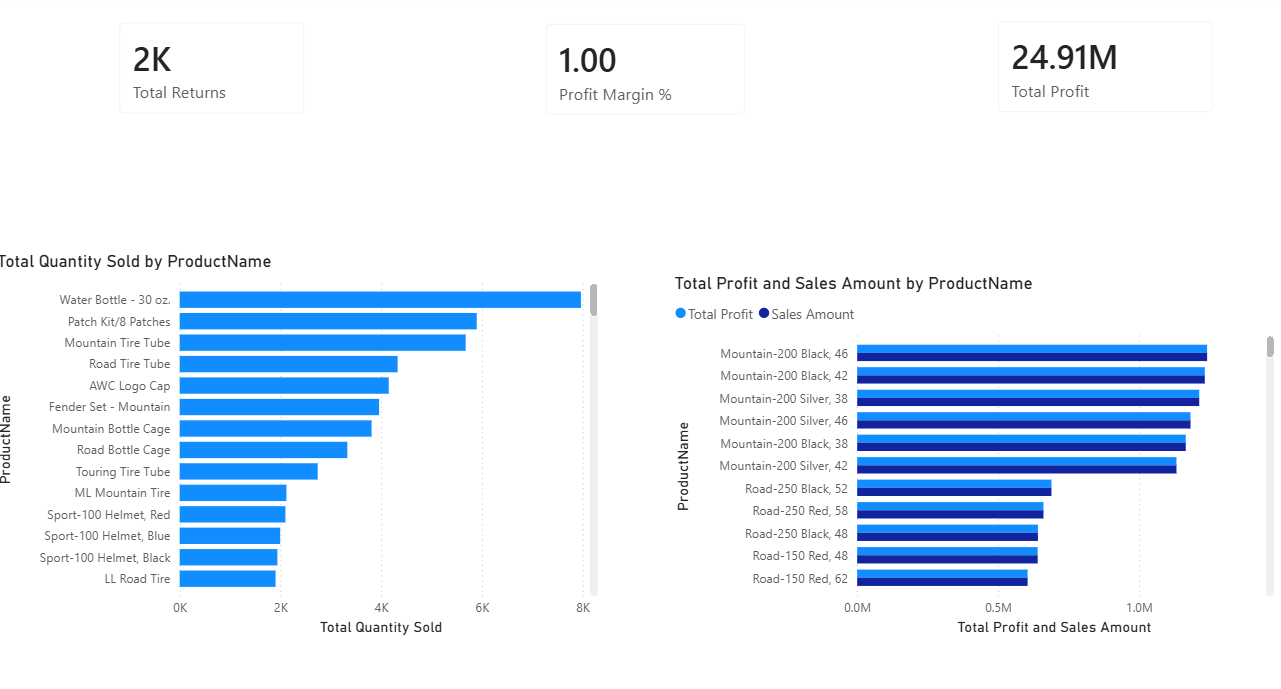

Layout of this report page (visuals, bound fields, positions):
{"tool":"powerbi","page":{"name":"Product Dashboard","canvas":[1280,720],"ordinal":3},"visuals":[{"type":"cardVisual","fields":{"Data":["FactSales.Total Returns"]},"box":[107.6,11,215.2,123.5],"z":0},{"type":"cardVisual","fields":{"Data":["FactSales.Profit Margin %"]},"box":[524.6,12.2,229.9,123.5],"z":1000},{"type":"cardVisual","fields":{"Data":["FactSales.Total Profit"]},"box":[967.3,9.8,244.6,123.5],"z":2000},{"type":"clusteredBarChart","fields":{"Y":["FactSales.Total Quantity Sold"],"Category":["DimProduct.ProductName"]},"box":[0,250.7,598,381.5],"z":3000},{"type":"clusteredBarChart","fields":{"Y":["FactSales.Total Profit","FactSales.Sales Amount"],"Category":["DimProduct.ProductName"]},"box":[662.8,272.7,596.7,359.5],"z":4000}]}

Visuals, with their boxes on the page's 1280x720 design canvas (x1, y1, x2, y2). These are canvas units, not pixel positions in the 1281x689 screenshot, which may show the page scaled, cropped or inside an application window:
cardVisual - FactSales.Total Returns: {"left": 108, "top": 11, "right": 323, "bottom": 134}
cardVisual - FactSales.Profit Margin %: {"left": 525, "top": 12, "right": 754, "bottom": 136}
cardVisual - FactSales.Total Profit: {"left": 967, "top": 10, "right": 1212, "bottom": 133}
clusteredBarChart - FactSales.Total Quantity Sold x DimProduct.ProductName: {"left": 0, "top": 251, "right": 598, "bottom": 632}
clusteredBarChart - FactSales.Total Profit x FactSales.Sales Amount: {"left": 663, "top": 273, "right": 1260, "bottom": 632}
